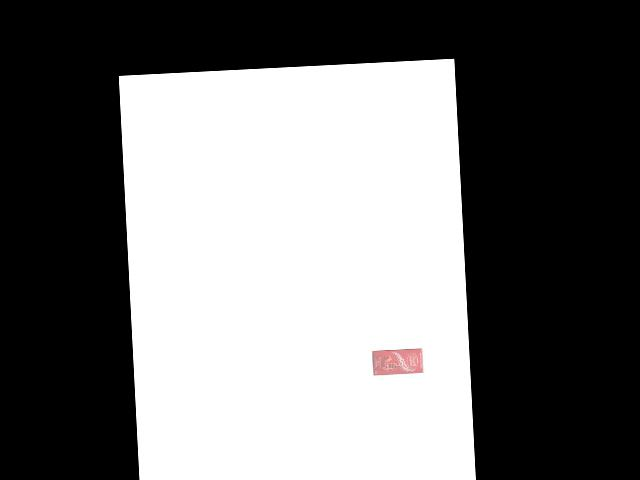chocolate: (368, 347, 424, 377)
